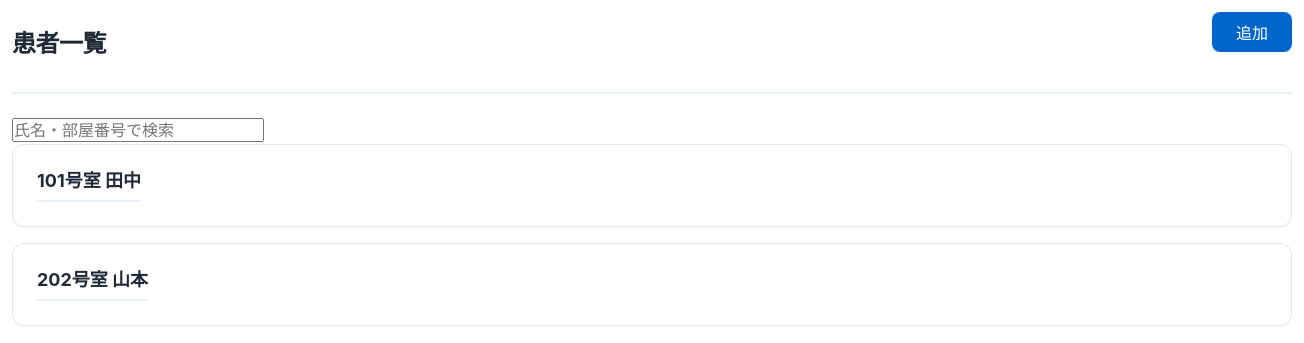
Test: PatientList › 部屋番号で検索すると一致する患者だけを表示する
The width and height of the screenshot is (1304, 343).
Type "101" into the field named "患者検索" at (138, 130), box [12,118,264,142]
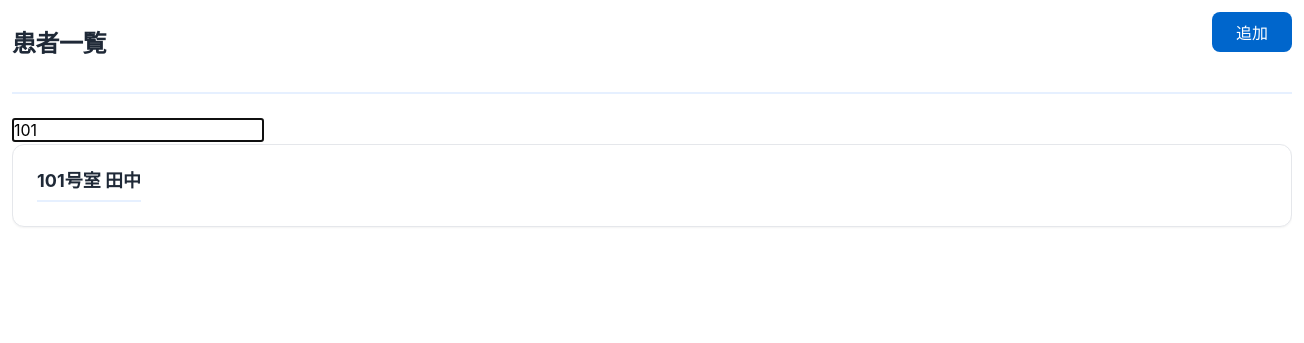
Expected: the heading "101号室 田中" is shown, [37,169,141,202]
Now the heading "202号室 山本" is gone
